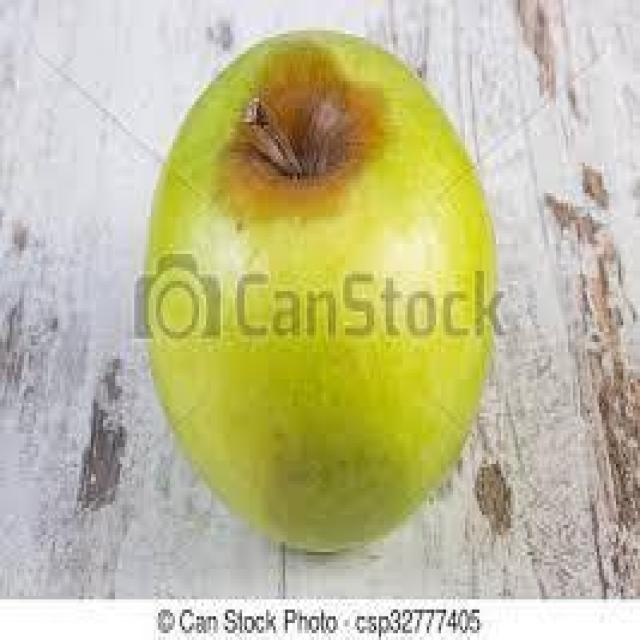maca: (139, 24, 499, 552)
